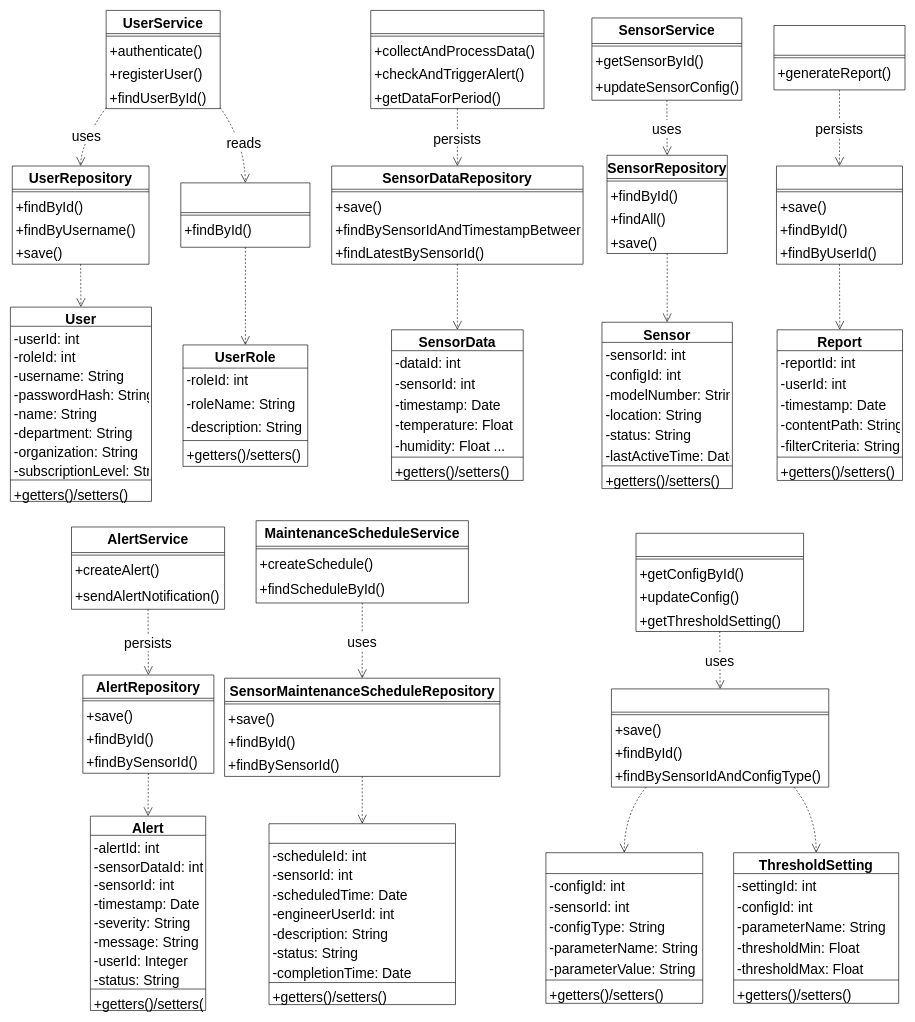
This 915x1022 diagram has some shape labels left out. The box of each missing label's shape, as (x1, y1, x2, y2) in pixels:
Configuration: (545, 852, 703, 1003)
ConfigurationRepository: (611, 688, 829, 787)
ConfigurationService: (635, 533, 804, 632)
ReportRepository: (776, 165, 902, 264)
ReportService: (773, 25, 905, 90)
SensorDataService: (370, 10, 544, 109)
SensorMaintenanceSchedule: (268, 823, 455, 1005)
UserRoleRepository: (180, 182, 310, 247)
